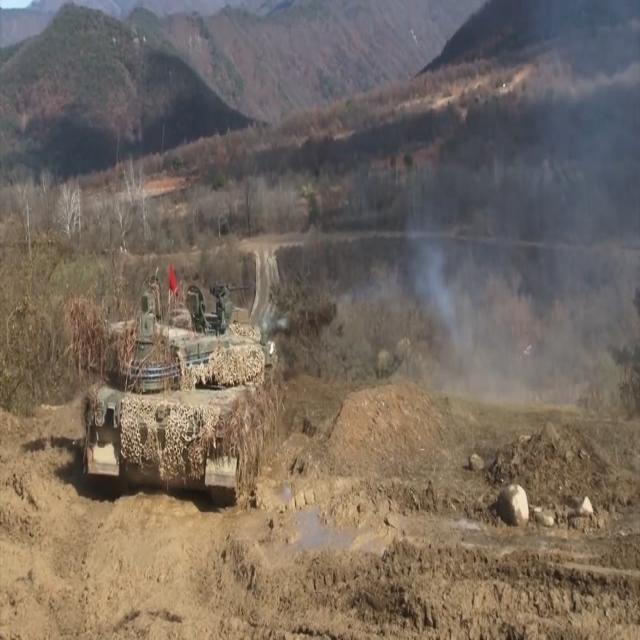korea tank: (75, 278, 339, 511)
